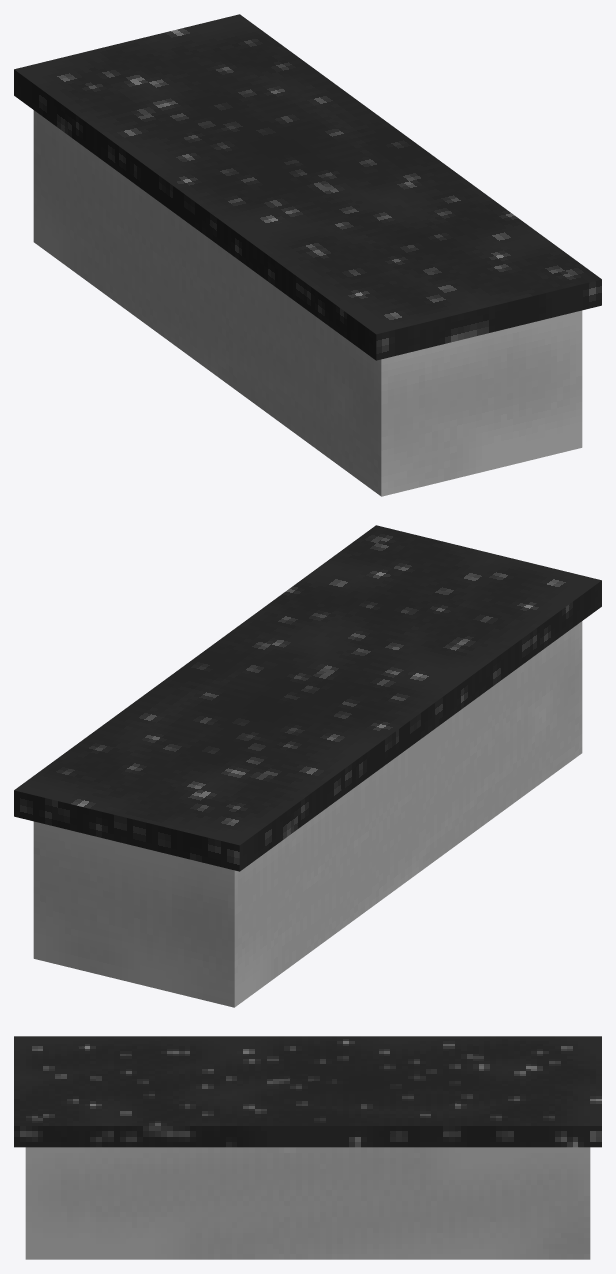
File: marbleCounter.gltf
The picture shows the model from 3 angles, top to bottom: view 1: azimuth 30°, elevation 25°; view 2: azimuth 150°, elevation 25°; view 3: azimuth 270°, elevation 25°; orthographic projection. The views are drawn at different scales.
Visible parts, largest first — view 1: cuboid; view 2: cuboid; view 3: cuboid.
Boxes of the visible parts, x1,y1,x2,y2 form: cuboid: (14, 14, 601, 496); cuboid: (14, 525, 601, 1007); cuboid: (14, 1036, 601, 1259).
Size of the model in its own units: 1.12 by 0.8125 by 3.12.
1 material, 1 textured.
